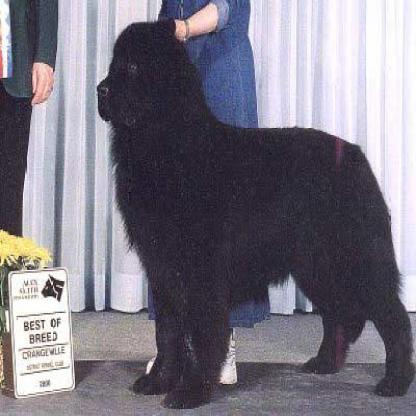Newfoundland: (86, 11, 413, 411)
